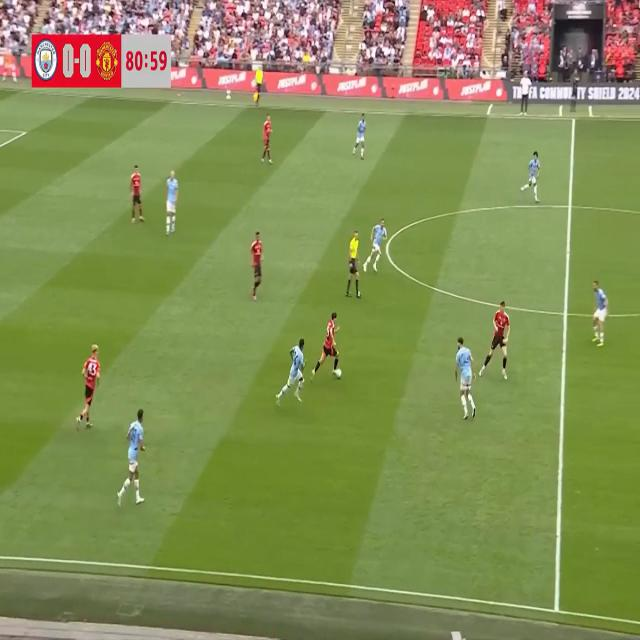ball: (335, 362, 346, 382)
players: (116, 409, 150, 516), (478, 296, 512, 382), (72, 338, 101, 437), (454, 327, 483, 424), (272, 332, 306, 408), (586, 276, 616, 355), (312, 301, 342, 379), (518, 149, 544, 209), (248, 228, 267, 307), (163, 170, 183, 244), (365, 212, 387, 279), (352, 103, 373, 166), (130, 161, 149, 230), (260, 109, 274, 166)
refree: (344, 228, 361, 309), (250, 61, 267, 115)
